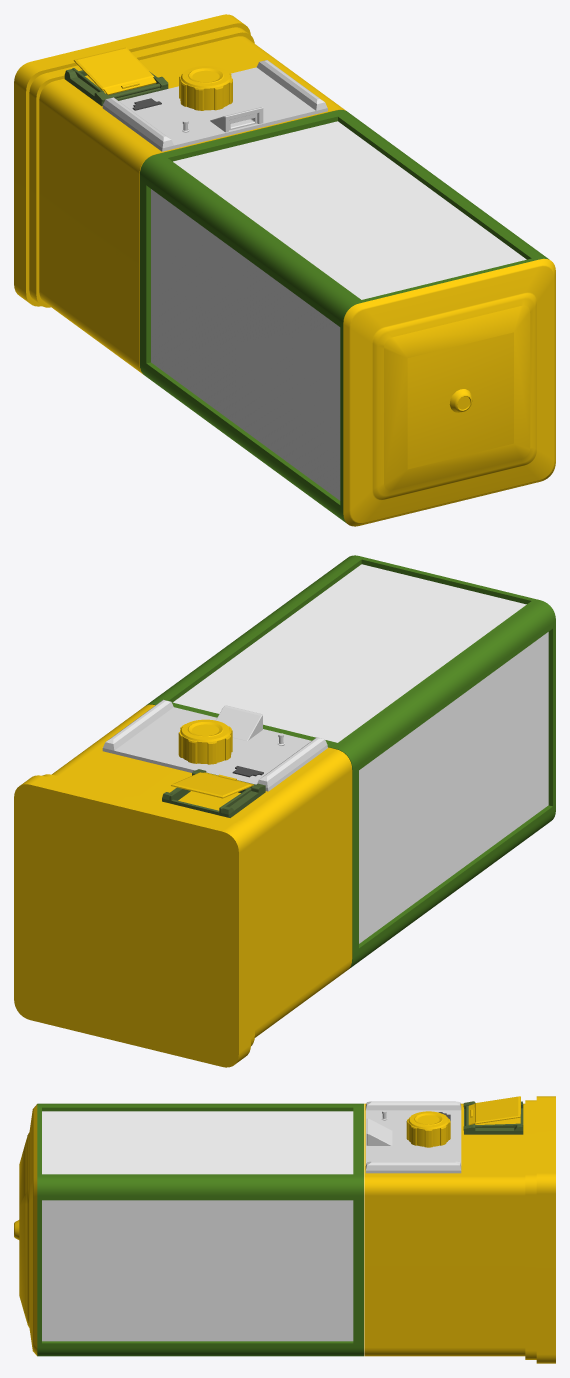
Rendered from gumball machine.gltf.
3 renders of one model, top to bottom at view 1: azimuth 30°, elevation 25°; view 2: azimuth 150°, elevation 25°; view 3: azimuth 270°, elevation 25°, orthographic. The views are drawn at different scales.
Parts seen in each view (by area): view 1: Cube, Circle.002, Circle, Cube.026, Cube.030, Cube.006, Cube.028, Cube.034, Cube.007, Cube.008; view 2: Cube, Circle.002, Circle, Cube.026, Cube.006, Cube.028, Cube.030, Cube.008, Cube.034, Cube.007; view 3: Circle.002, Cube, Circle, Cube.026, Cube.030, Cube.006, Cube.034, Cube.028, Cube.008, Cube.007.
Boxes of the visible parts, left/top/right/bottom form: Cube: left=14, top=14, right=555, bottom=526; Circle.002: left=151, top=121, right=526, bottom=500; Circle: left=140, top=110, right=549, bottom=522; Cube.026: left=102, top=67, right=327, bottom=151; Cube.030: left=73, top=47, right=156, bottom=94; Cube.006: left=180, top=66, right=231, bottom=110; Cube.028: left=64, top=68, right=168, bottom=106; Cube.034: left=256, top=60, right=327, bottom=110; Cube.007: left=179, top=70, right=232, bottom=110; Cube.008: left=210, top=107, right=263, bottom=132; Cube: left=14, top=704, right=352, bottom=1067; Circle.002: left=173, top=564, right=548, bottom=943; Circle: left=146, top=555, right=555, bottom=969; Cube.026: left=102, top=707, right=327, bottom=791; Cube.006: left=180, top=719, right=231, bottom=763; Cube.028: left=162, top=769, right=265, bottom=817; Cube.030: left=171, top=772, right=253, bottom=798; Cube.008: left=216, top=705, right=262, bottom=740; Cube.034: left=103, top=699, right=173, bottom=750; Cube.007: left=178, top=724, right=232, bottom=764; Circle.002: left=42, top=1111, right=353, bottom=1341; Cube: left=14, top=1096, right=555, bottom=1363; Circle: left=37, top=1103, right=363, bottom=1356; Cube.026: left=365, top=1101, right=461, bottom=1173; Cube.030: left=468, top=1096, right=520, bottom=1125; Cube.006: left=408, top=1111, right=449, bottom=1146; Cube.034: left=365, top=1161, right=461, bottom=1170; Cube.028: left=463, top=1101, right=523, bottom=1134; Cube.008: left=366, top=1118, right=392, bottom=1145; Cube.007: left=406, top=1114, right=450, bottom=1147.
Size of the model in its own units: 2.12 by 2.3 by 5.5.
